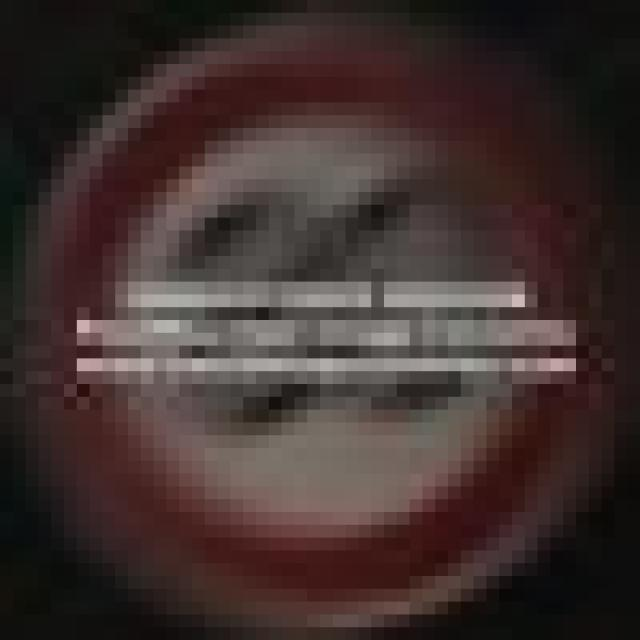speed_limit_50: (13, 38, 589, 628)
